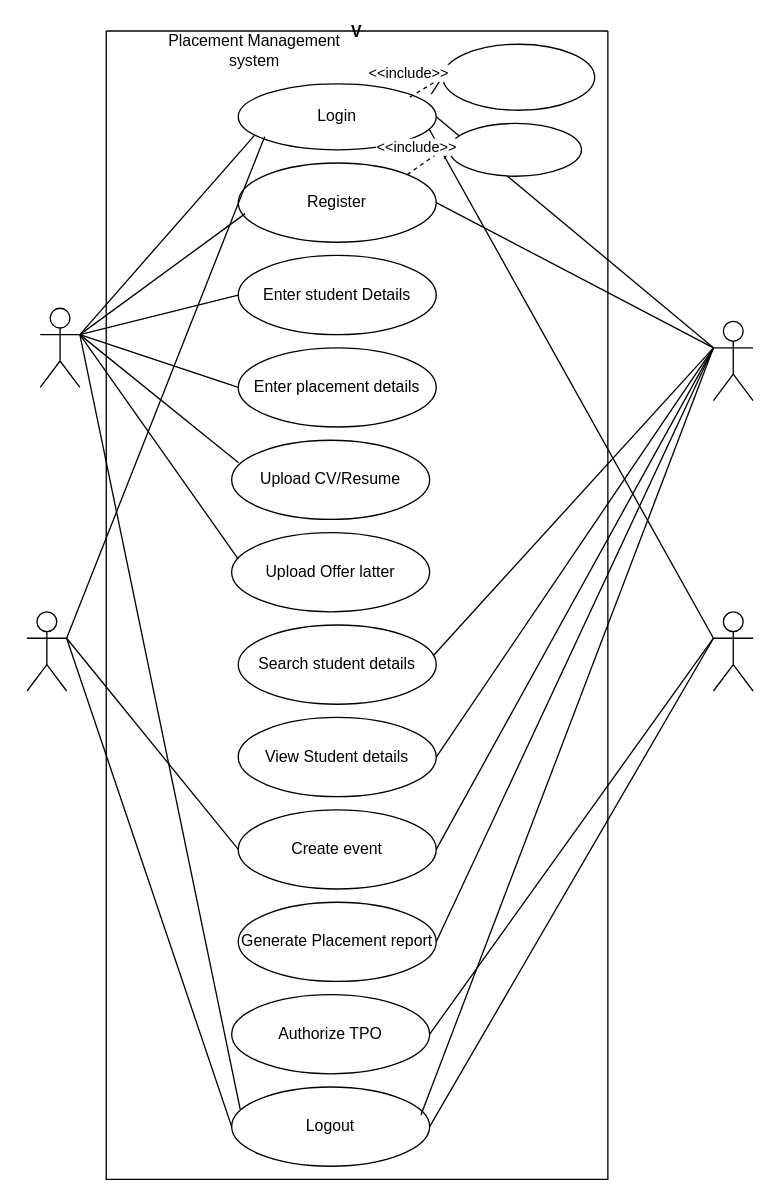
The diagram is 779 pixels wide and 1203 high, and some of its shapes have lost their labels. Here are the shapes that lost their labels. From the top down, the centre of each, then its label:
At [518,76]: "Valid Username and password".
At [514,149]: "valid entry fields".
At [59,347]: "Student".
At [732,360]: "TPC".
At [46,650]: "Alumni".
At [732,650]: "Admin".
